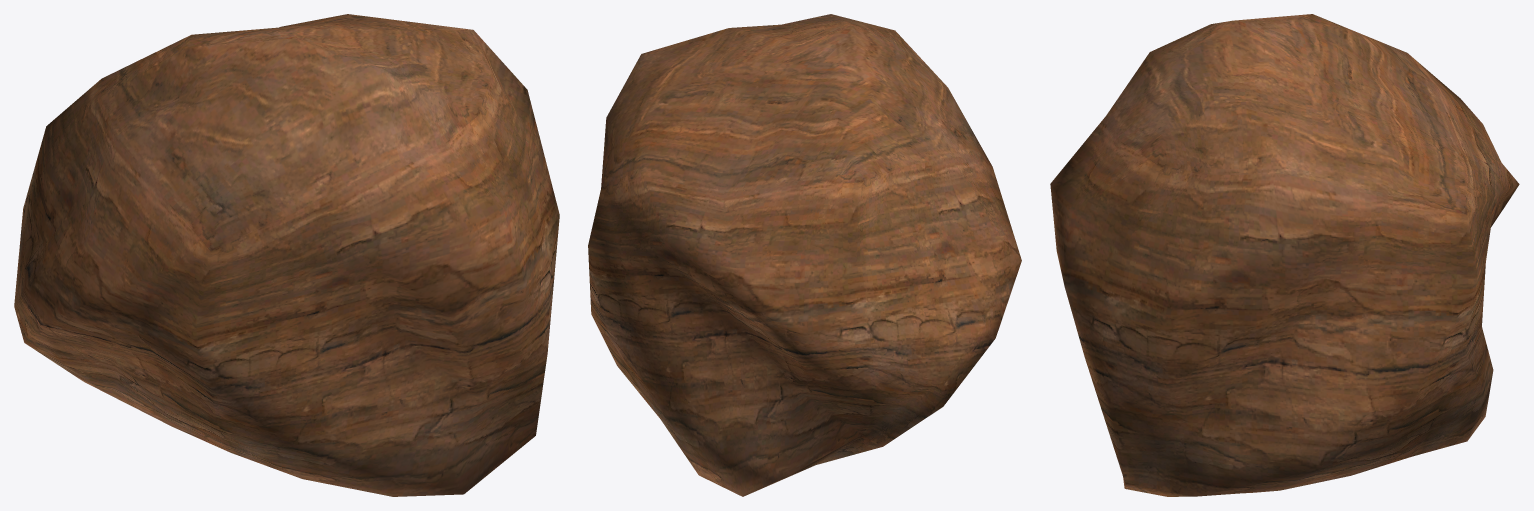
File: rock_tatt_jundland_boulder_a5_l0.fbx
3 views of the same model, side by side, from view 1: azimuth 30°, elevation 25°; view 2: azimuth 150°, elevation 25°; view 3: azimuth 270°, elevation 25° (orthographic). The views are drawn at different scales.
Visible parts, largest first — view 1: mesh_node; view 2: mesh_node; view 3: mesh_node.
Part boxes in pixels (x1,y1,x2,y2): mesh_node: (14,14,559,496); mesh_node: (588,14,1021,496); mesh_node: (1050,14,1519,496).
Bounding box in the file's own units: 2.74 × 2.58 × 2.63.
